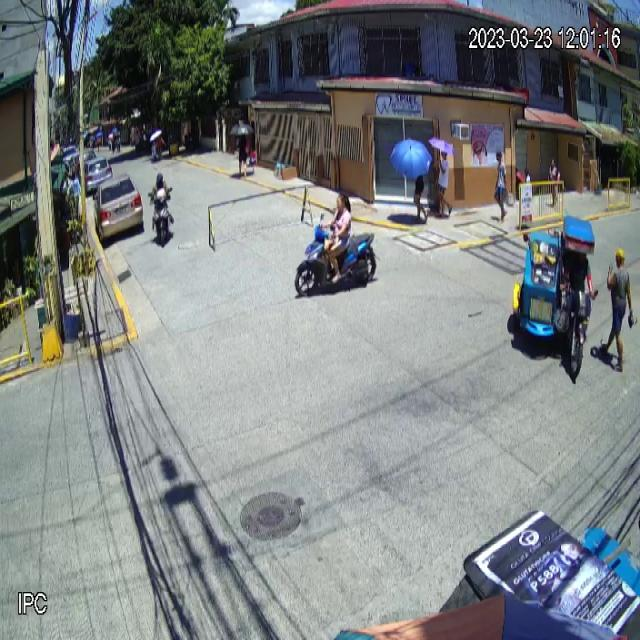Motorcycle: (294, 211, 379, 297)
Tricycle: (512, 213, 598, 377)
